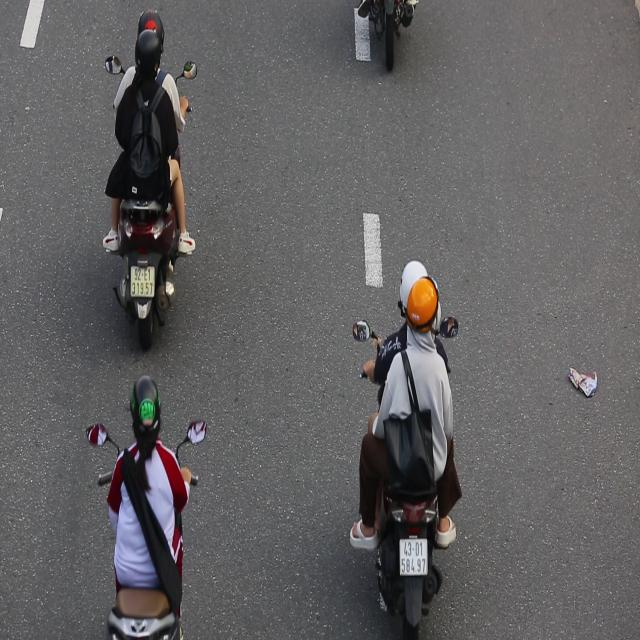motorbike: (348, 253, 466, 640), (94, 0, 201, 351)
